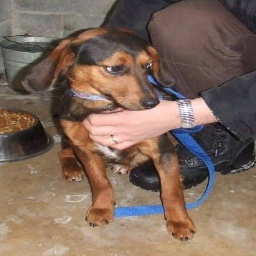dog: (28, 27, 204, 244)
